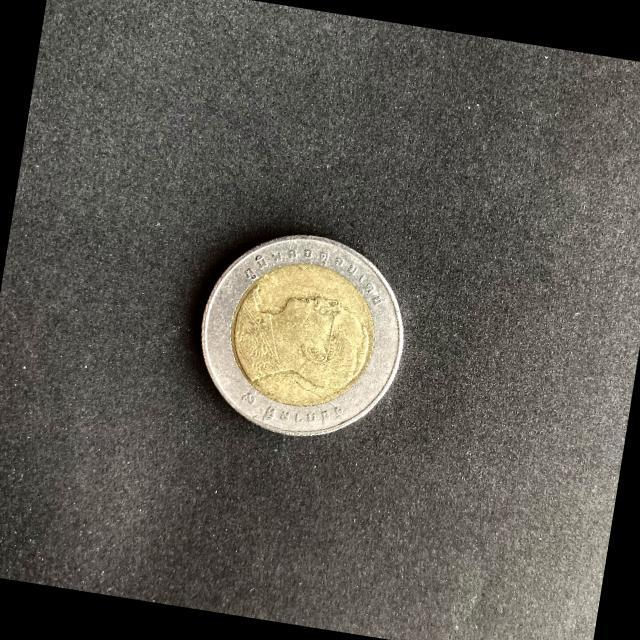10 Bath: (199, 233, 408, 440)
